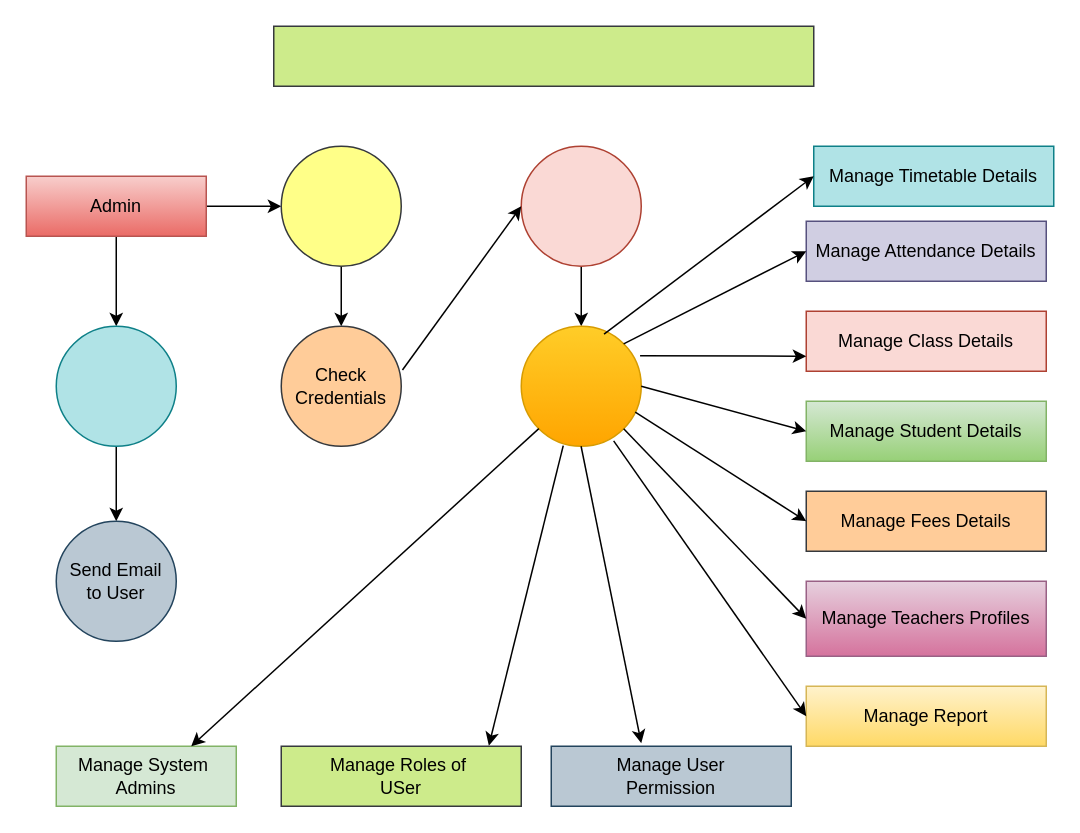
This 1080x833 diagram has some shape labels left out. Here are the shapes that lost their labels. From the top down, the box of each, then its label:
(272, 25, 814, 86): Student Information System
(280, 145, 401, 266): Login to System
(520, 145, 641, 266): Check Roles of Access
(55, 325, 176, 446): Forget Password
(520, 325, 641, 446): Manage Modules
